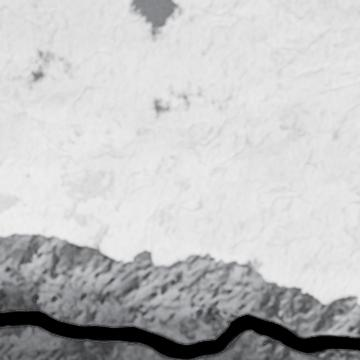broken_brick: (0, 0, 359, 303)
crack: (0, 310, 359, 359)
